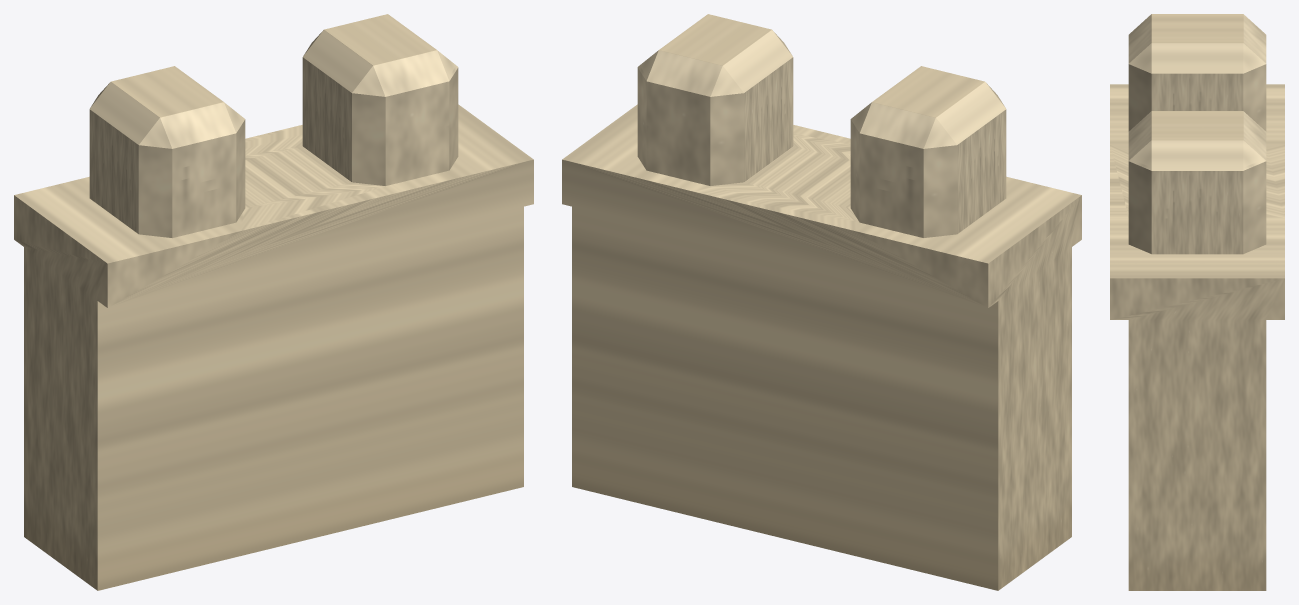
File: wall_line_base.glb
The picture shows the model from 3 angles, left to right: view 1: azimuth 30°, elevation 25°; view 2: azimuth 150°, elevation 25°; view 3: azimuth 270°, elevation 25°; orthographic projection. The views are drawn at different scales.
Visible parts, largest first — view 1: wall; view 2: wall; view 3: wall.
Boxes of the visible parts, x1,y1,x2,y2 form: wall: (14, 14, 533, 590); wall: (562, 14, 1081, 590); wall: (1110, 14, 1284, 590).
Bounding box in the file's own units: 1 × 1 × 0.38.
Materials: 1 (1 with a texture image).
